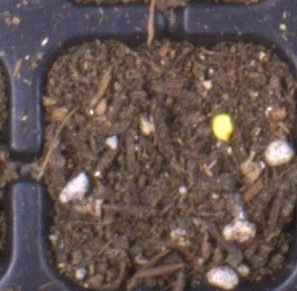chilli seed: (211, 114, 233, 144)
